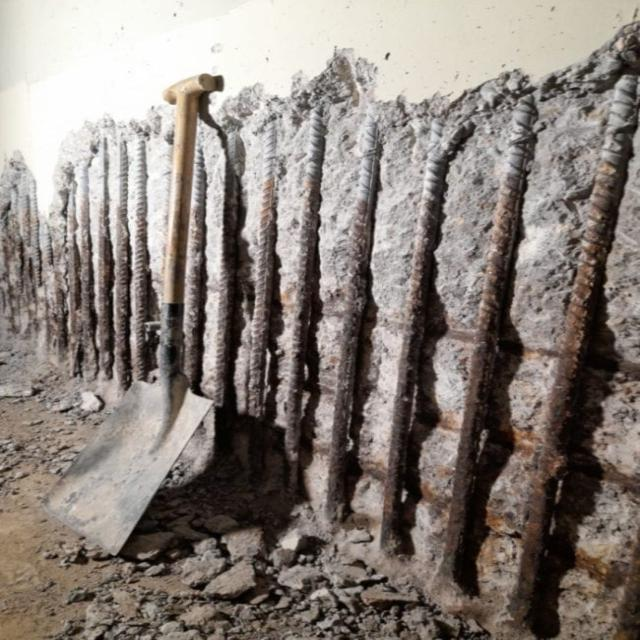Spalling: (0, 23, 639, 639)
corrosion: (504, 75, 639, 613), (432, 95, 531, 586), (327, 123, 379, 531), (248, 178, 276, 421)
